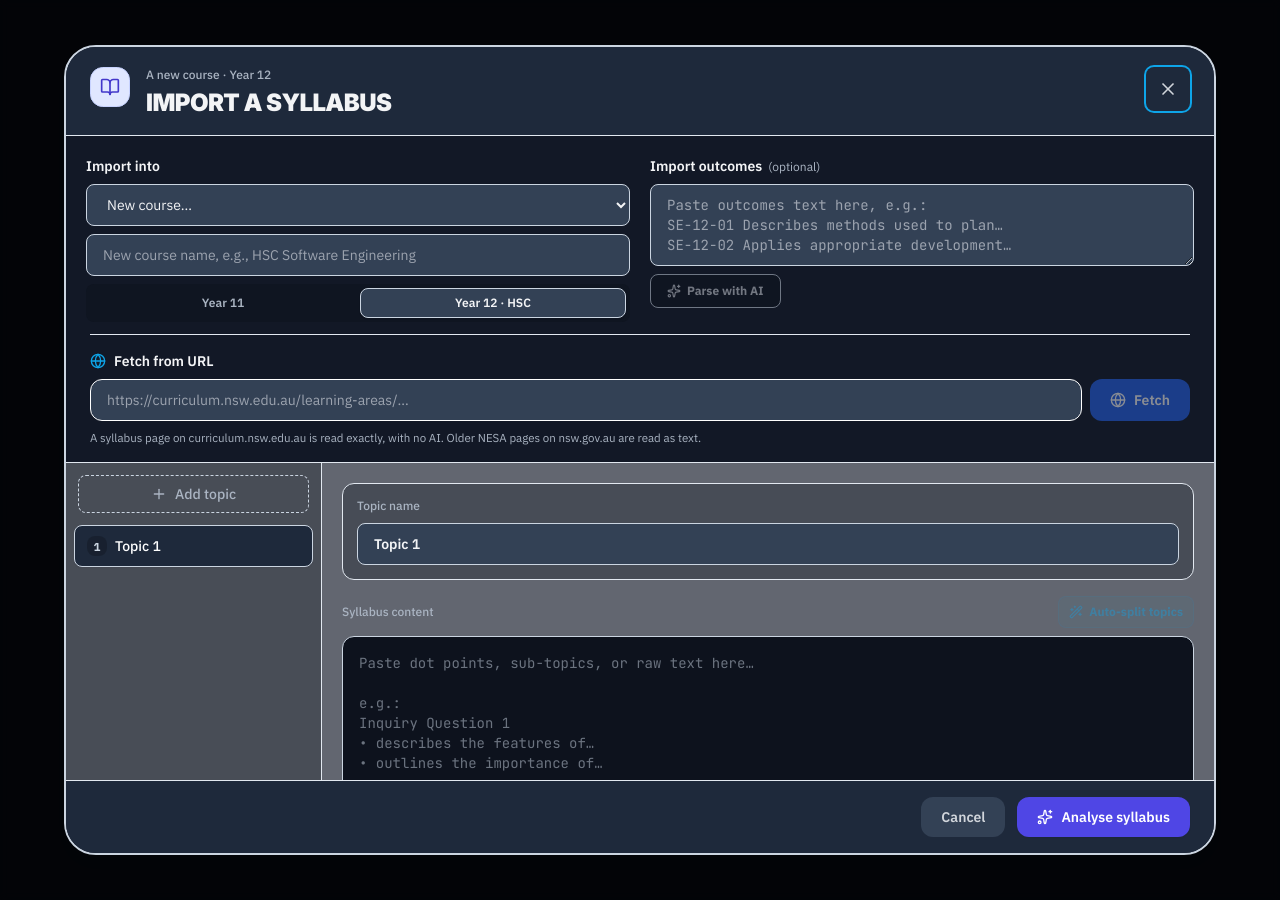
Scenario: creating a course by importing a syllabus › refuses a name an existing course already has, and points at the merge
In the field with placeholder "New course name, e.g., HSC Software Engineering": (358, 255) x1=86 y1=234 x2=630 y2=276, type "  hsc biology "
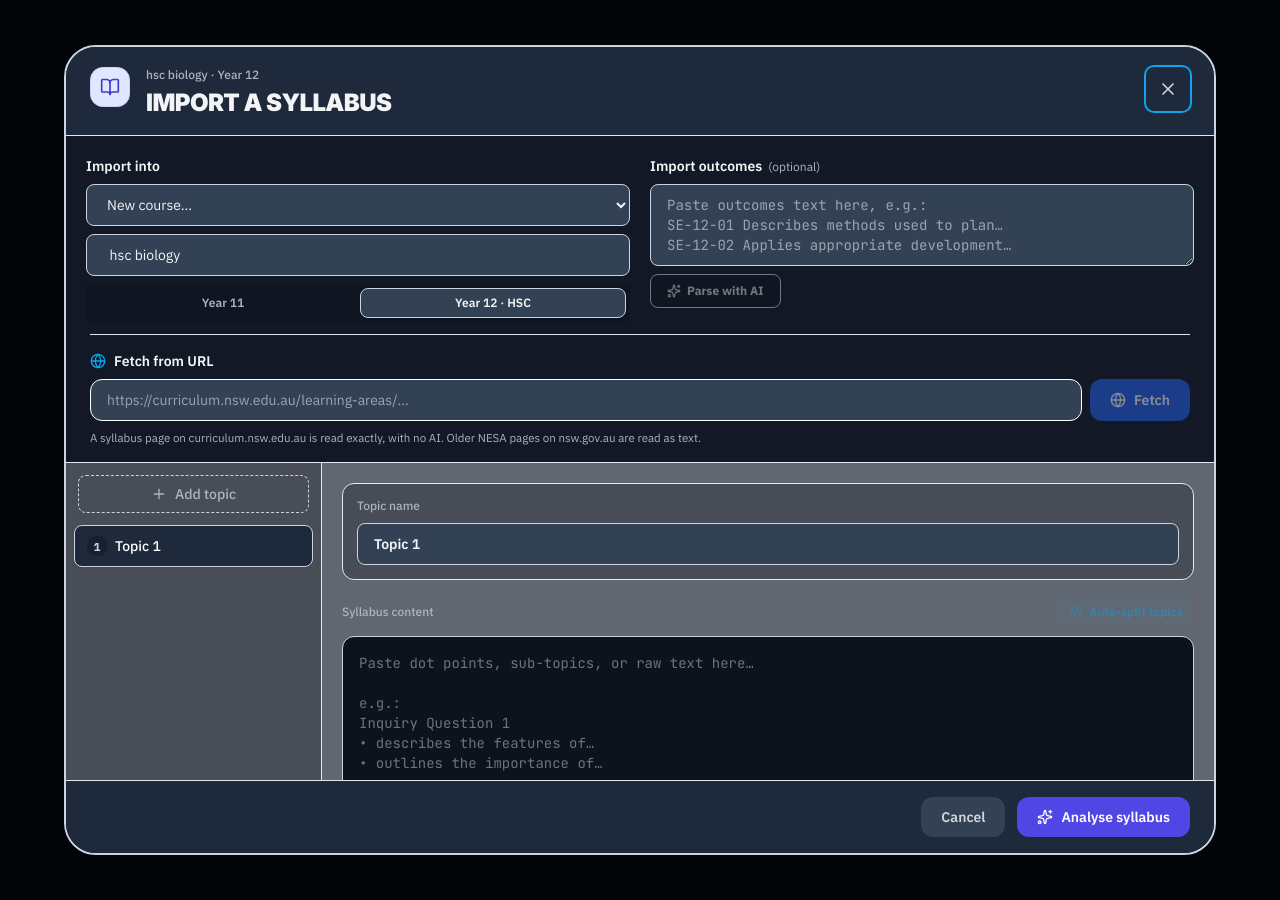
Replace the text in the text box with placeholder "Paste dot points, sub-topics" with "some syllabus text": (768, 731) x1=342 y1=636 x2=1194 y2=826
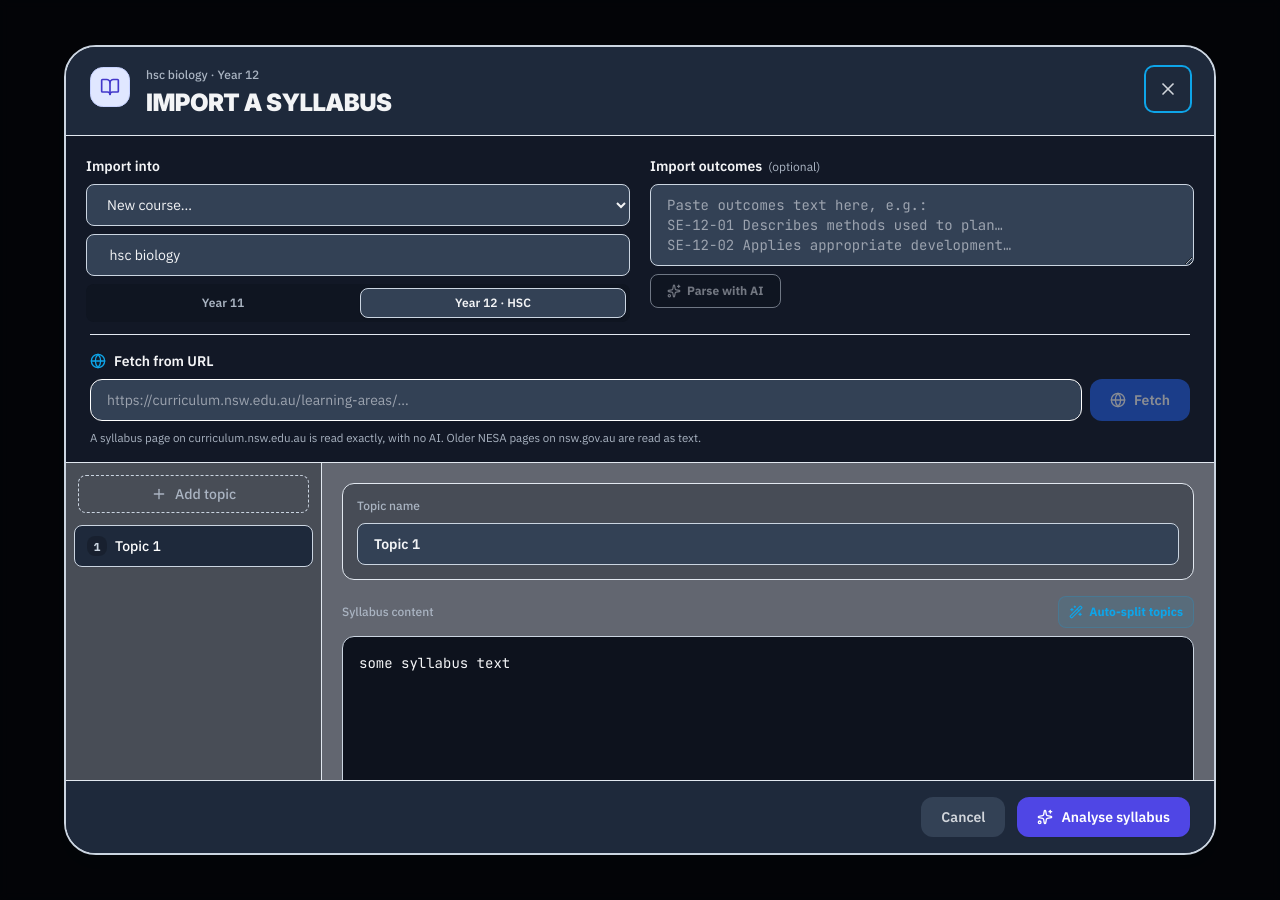
Click the button "Analyse syllabus": (1104, 817) x1=1017 y1=797 x2=1190 y2=837
(page scrolled)
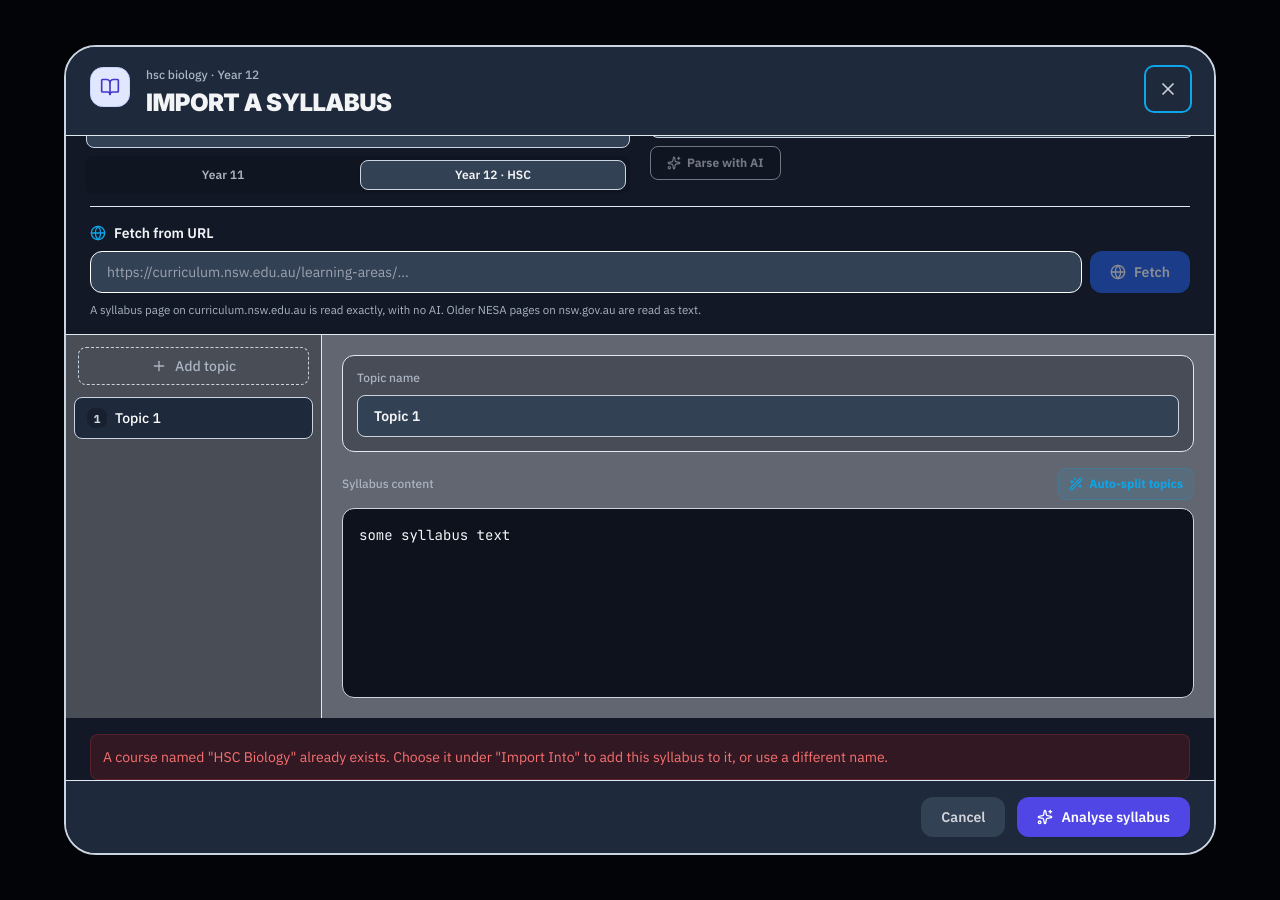
Expected: the text "already exists" is shown, x1=103 y1=748 x2=888 y2=766
